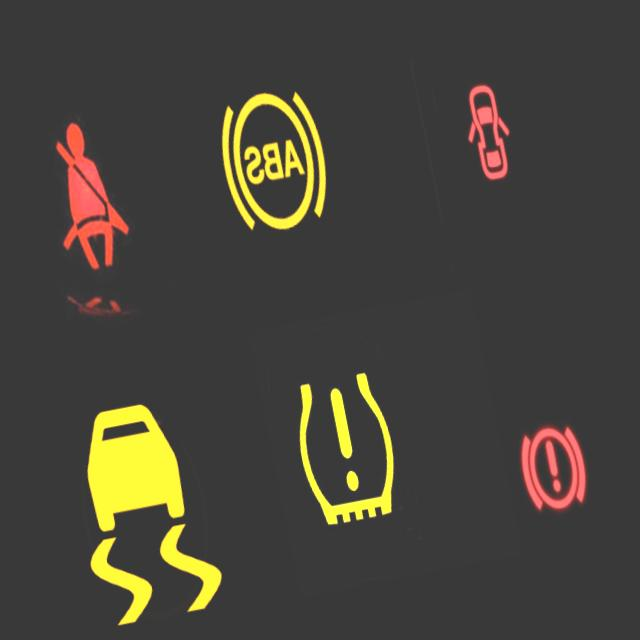kontrolka: (41, 378, 242, 640), (184, 45, 374, 263), (266, 353, 418, 560), (499, 410, 596, 522)
